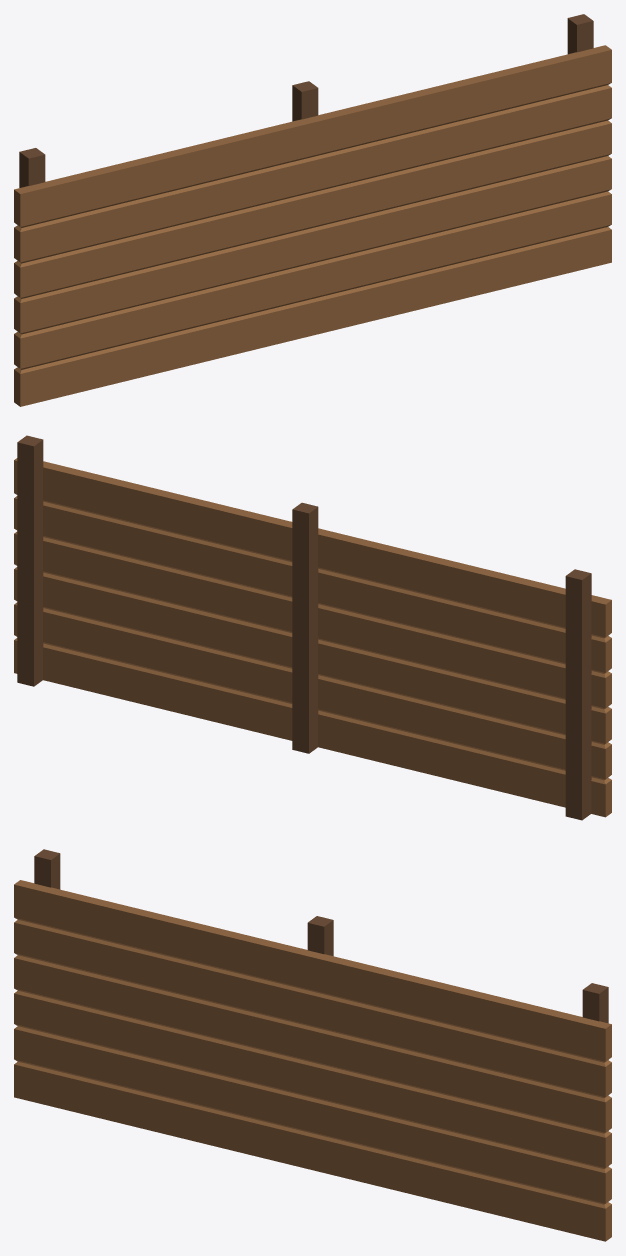
The model's file is ArcheryRange_fence_mat.fbx.
3 views of the same model, one above another, from view 1: azimuth 30°, elevation 25°; view 2: azimuth 150°, elevation 25°; view 3: azimuth 330°, elevation 25° (orthographic).
Visible parts, largest first — view 1: ArcheryRange_fence_mat; view 2: ArcheryRange_fence_mat; view 3: ArcheryRange_fence_mat.
Boxes of the visible parts, x1,y1,x2,y2 form: ArcheryRange_fence_mat: (14, 14, 611, 406); ArcheryRange_fence_mat: (14, 435, 611, 820); ArcheryRange_fence_mat: (14, 849, 611, 1241).
Size of the model in its own units: 377 by 147 by 17.02.
